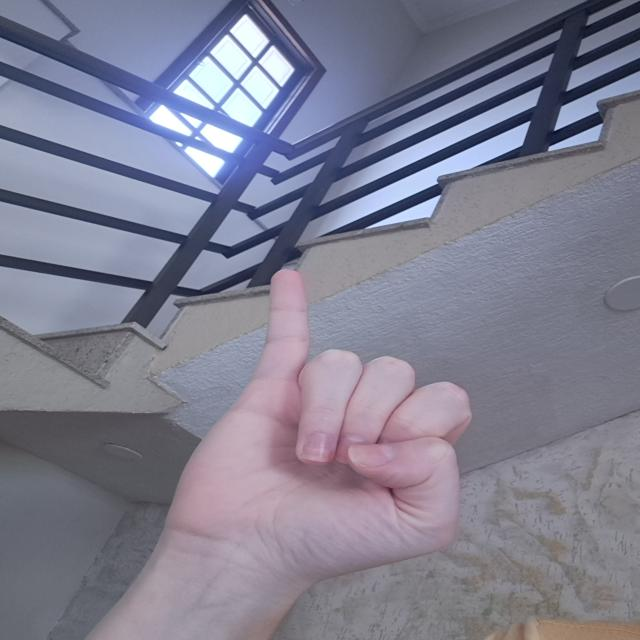I: (165, 257, 494, 594)
